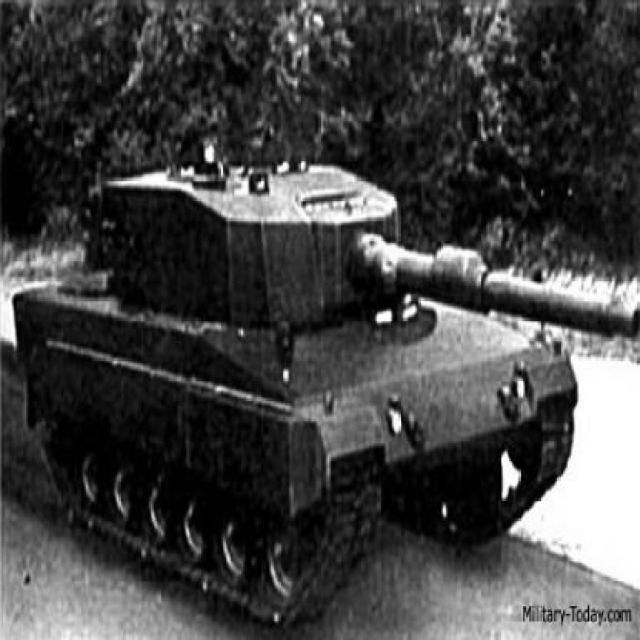Tank: (12, 107, 640, 633)
